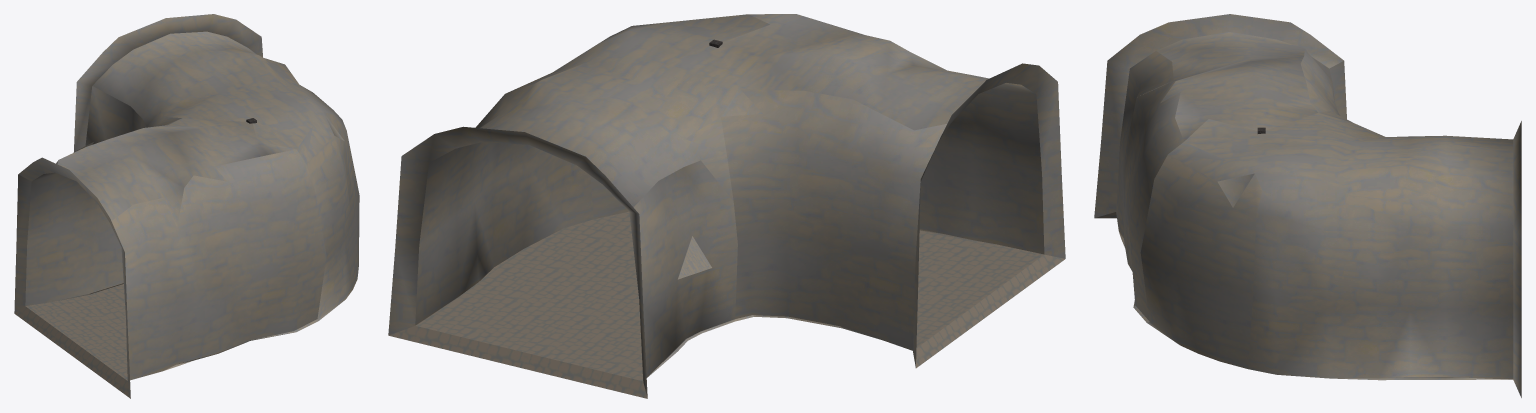
File: R_Tun9.glb
3 views of the same model, side by side, from view 1: azimuth 30°, elevation 25°; view 2: azimuth 150°, elevation 25°; view 3: azimuth 270°, elevation 25° (orthographic). The views are drawn at different scales.
Visible parts, largest first — view 1: _R_Tun9; view 2: _R_Tun9; view 3: _R_Tun9.
Boxes of the visible parts, x1,y1,x2,y2 form: _R_Tun9: [14, 14, 359, 398]; _R_Tun9: [388, 14, 1065, 398]; _R_Tun9: [1094, 14, 1521, 397].
Size of the model in its own units: 7.54 by 4 by 7.54.
4 materials, 4 textured.
